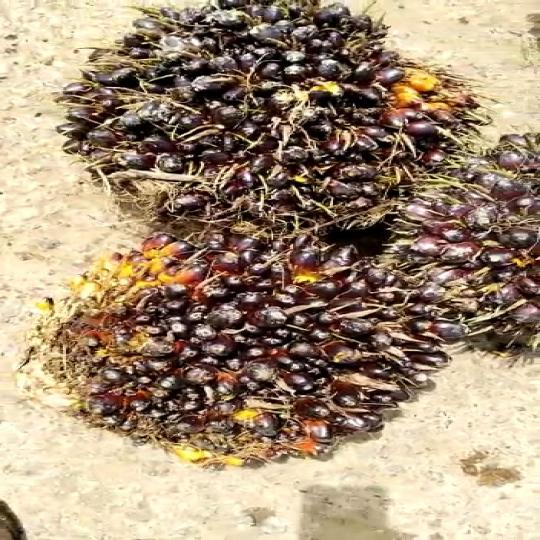mentah: (33, 234, 432, 488), (40, 0, 439, 253)
